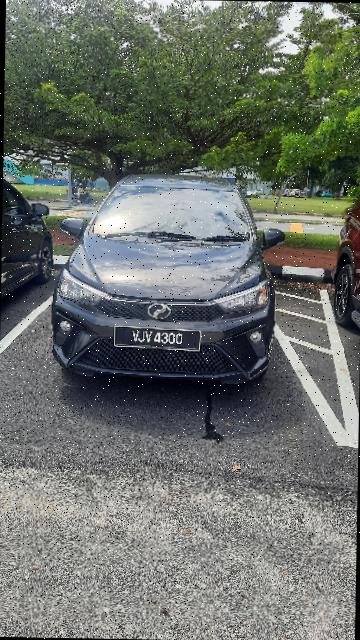License_Plate: (110, 324, 204, 354)
car: (45, 172, 289, 391)
